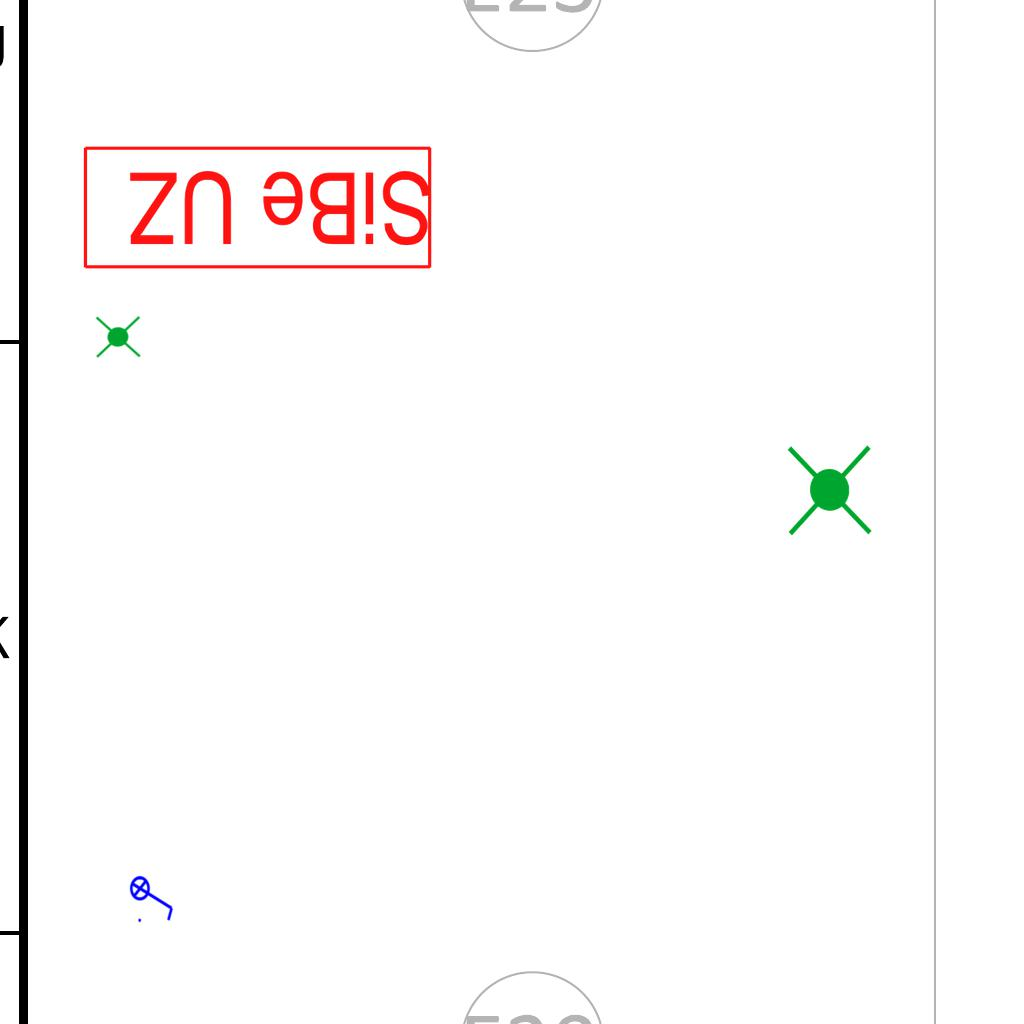Ausschalter_beleuchtet: (129, 869, 177, 925)
Notlichtbaustein_in_Allgemeinbeleuchtug_engebaut_Einbau_(1UG_und_2UG_Aufbauvaria: (777, 440, 880, 540), (93, 312, 143, 363)
Zentrale_Sicherheitsbeleuchtung: (78, 142, 435, 272)
